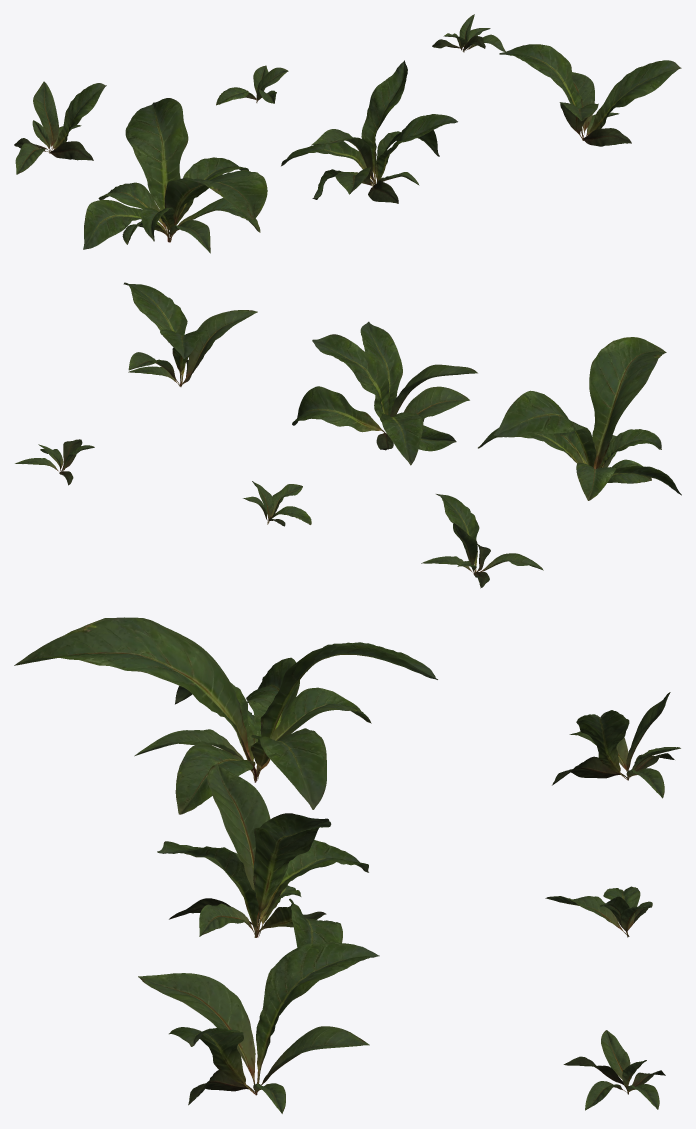
Rendered from anthurium_botany_01.glb.
3 renders of one model, top to bottom at view 1: azimuth 30°, elevation 25°; view 2: azimuth 150°, elevation 25°; view 3: azimuth 270°, elevation 25°, orthographic. The views are drawn at different scales.
Parts seen in each view (by area): view 1: anthurium_botany_01_a, anthurium_botany_01_b, anthurium_botany_01_c, anthurium_botany_04_d, anthurium_botany_05_e, anthurium_botany_06_f; view 2: anthurium_botany_01_a, anthurium_botany_01_b, anthurium_botany_01_c, anthurium_botany_04_d, anthurium_botany_05_e, anthurium_botany_06_f; view 3: anthurium_botany_01_a, anthurium_botany_01_b, anthurium_botany_01_c, anthurium_botany_04_d, anthurium_botany_06_f, anthurium_botany_05_e.
Boxes of the visible parts, left/top/right/bottom form: anthurium_botany_01_a: left=83, top=98, right=267, bottom=253; anthurium_botany_01_b: left=281, top=60, right=457, bottom=203; anthurium_botany_01_c: left=499, top=44, right=681, bottom=146; anthurium_botany_04_d: left=14, top=81, right=106, bottom=174; anthurium_botany_05_e: left=216, top=65, right=288, bottom=105; anthurium_botany_06_f: left=432, top=14, right=505, bottom=52; anthurium_botany_01_a: left=478, top=337, right=681, bottom=500; anthurium_botany_01_b: left=292, top=321, right=477, bottom=465; anthurium_botany_01_c: left=123, top=282, right=257, bottom=386; anthurium_botany_04_d: left=421, top=494, right=543, bottom=588; anthurium_botany_05_e: left=243, top=481, right=311, bottom=526; anthurium_botany_06_f: left=15, top=439, right=94, bottom=485; anthurium_botany_01_a: left=14, top=617, right=437, bottom=814; anthurium_botany_01_b: left=157, top=763, right=368, bottom=981; anthurium_botany_01_c: left=138, top=942, right=379, bottom=1113; anthurium_botany_04_d: left=552, top=692, right=680, bottom=798; anthurium_botany_06_f: left=563, top=1030, right=665, bottom=1110; anthurium_botany_05_e: left=545, top=886, right=652, bottom=937.
Bounding box in the file's own units: 2.8 × 0.4996 × 1.8.
1 material, 1 textured.
